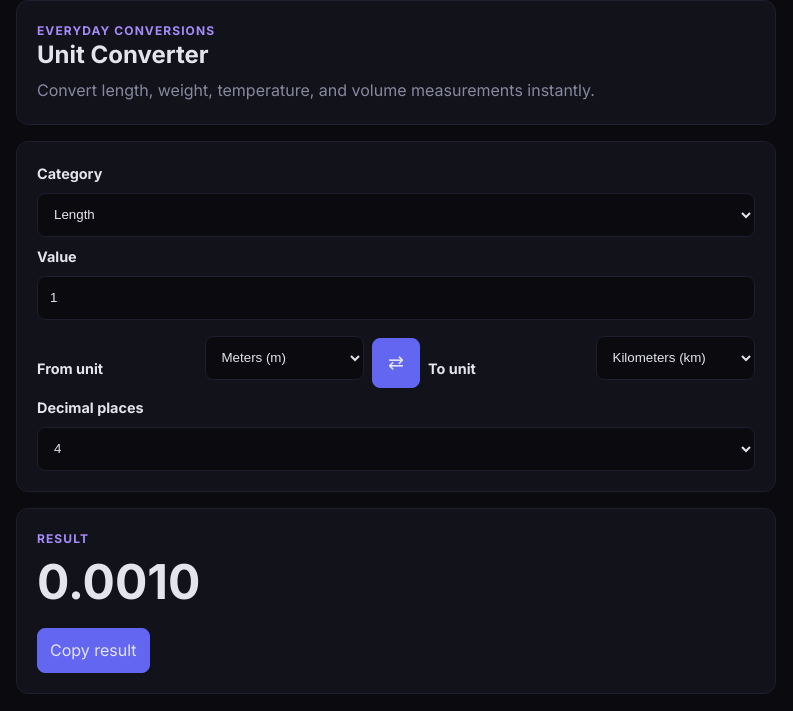
Test: UnitConverterTool › swaps units and recalculates the current value
Click the button named "Swap units".
click(396, 363)  # box [372,338,420,388]
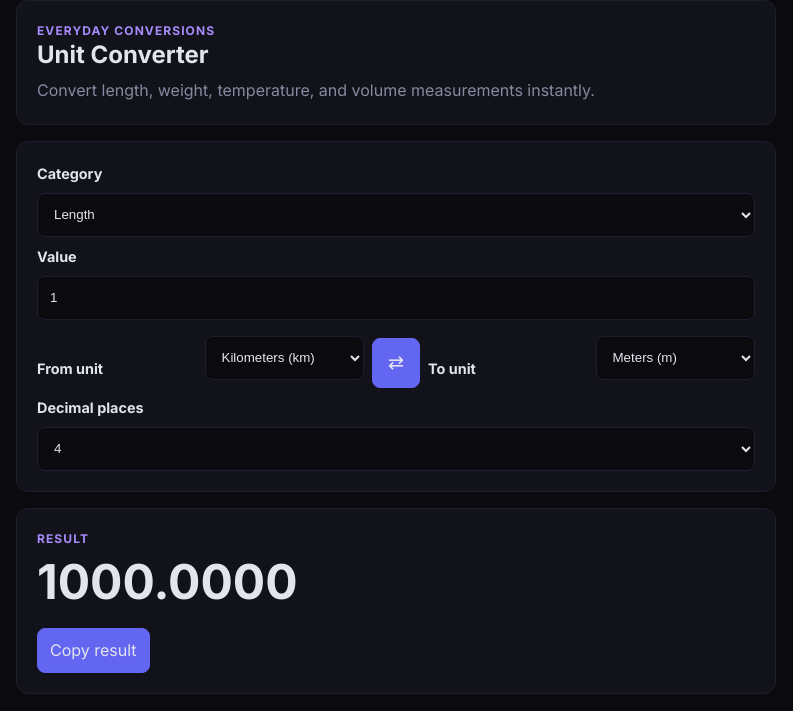
Expected: the dropdown labelled "From unit" shows "Kilometers (km)", [204,336,364,380]
Expected: the heading "1000.0000" is shown, [37,552,298,611]
